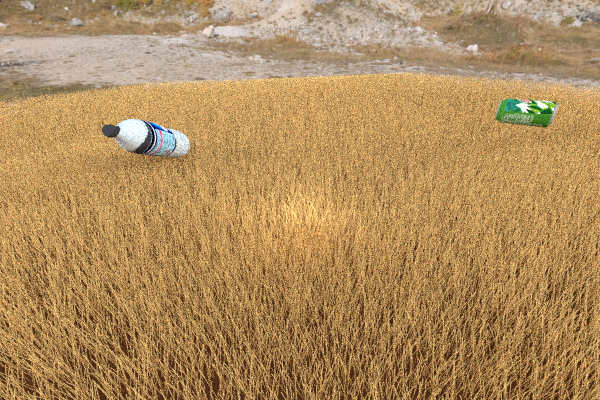Plastic Bottle: (101, 119, 190, 158), (494, 98, 558, 127)
